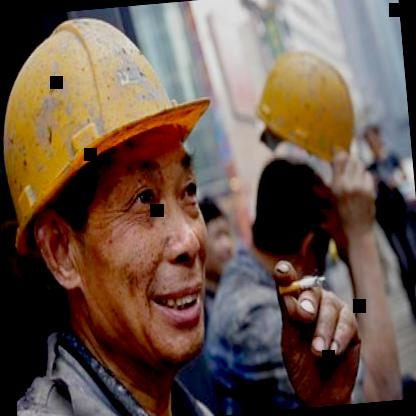helmet: (0, 0, 246, 408), (230, 23, 376, 261)
